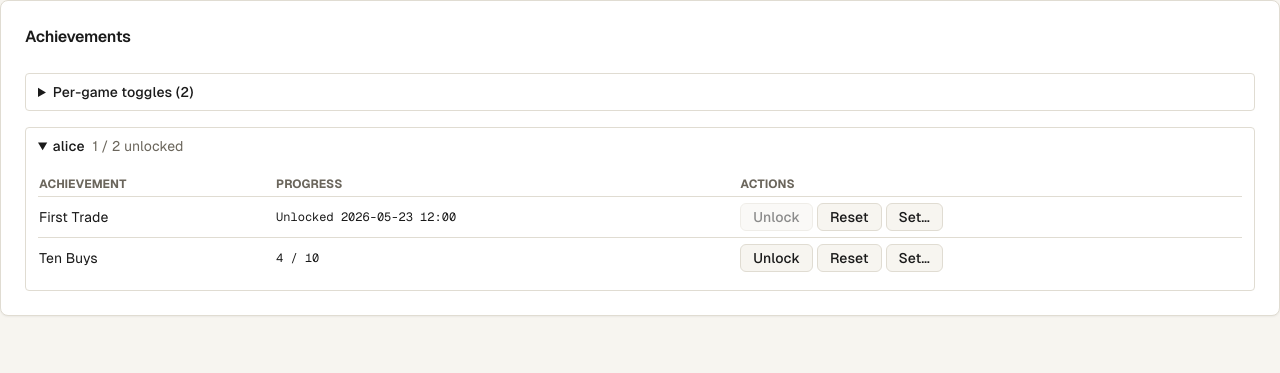
Test: AdminGameAchievementsCard › disables the per-game toggle for globally-disabled definitions
The image size is (1280, 373).
Open the per-game toggles section.
Click the heading "Per-game toggles (2)": click(123, 92) [53, 84, 194, 100]
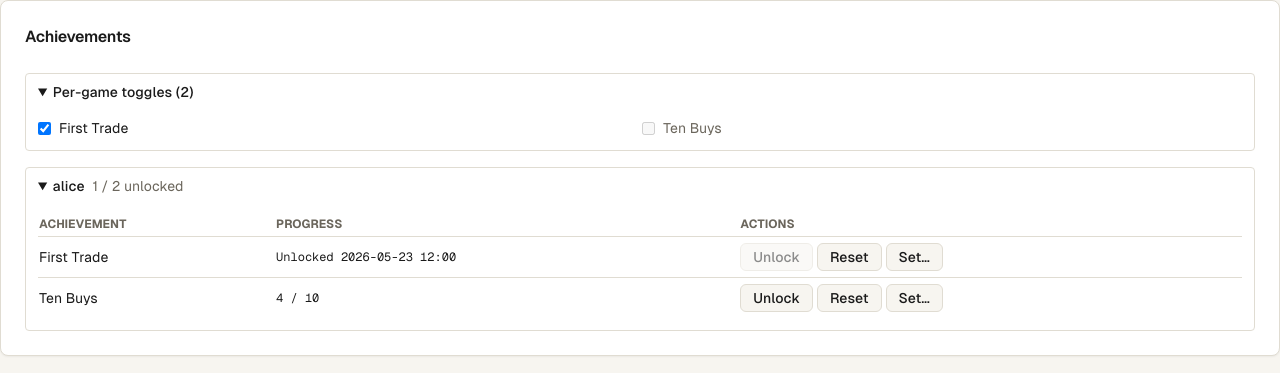
Expected: the checkbox labelled "Ten Buys" is disabled, [642, 122, 655, 134]
Expected: the checkbox labelled "First Trade" is enabled, [38, 122, 51, 134]
